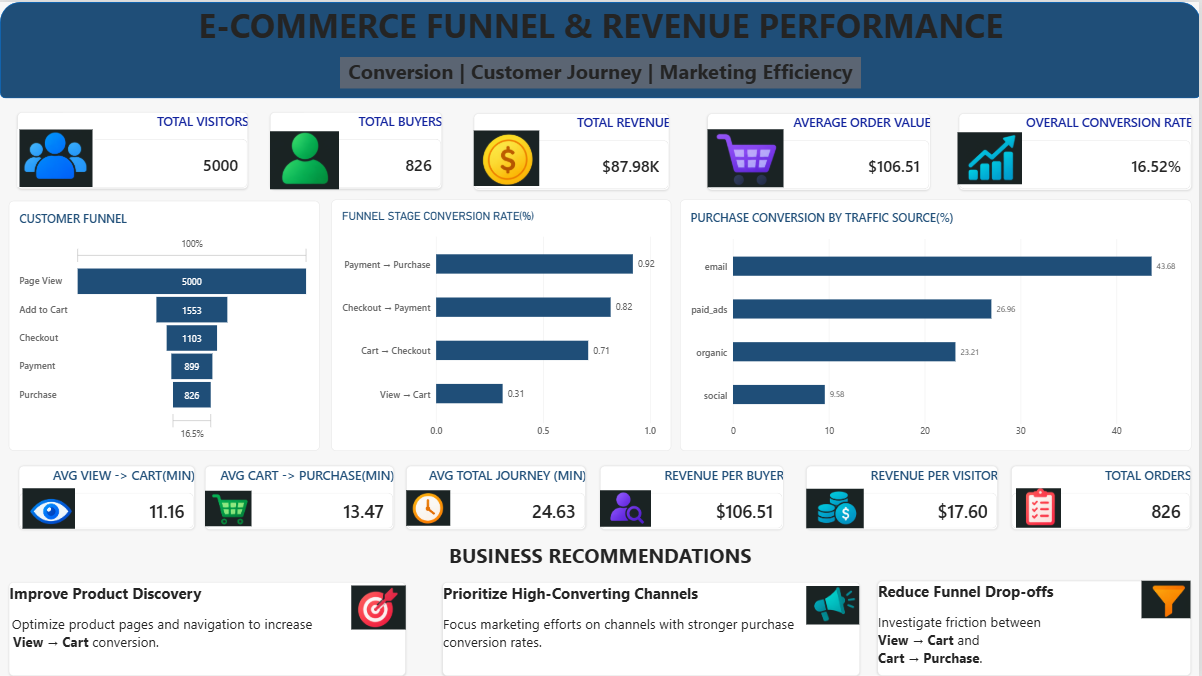

The dashboard page shown, as its layout file describes it:
{"tool":"powerbi","page":{"name":"ecommerce_funnel_dashboard","canvas":[1920,1080],"ordinal":0},"visuals":[{"type":"cardVisual","title":"TOTAL VISITORS","fields":{"Data":["Sum(revenue_funnel_analysis.total_visitors)"]},"box":[29,175.5,369.2,123.1],"z":0},{"type":"cardVisual","title":"TOTAL BUYERS","fields":{"Data":["Sum(revenue_funnel_analysis.total_buyers)"]},"box":[432.5,175.5,275.1,123.1],"z":1000},{"type":"cardVisual","title":"TOTAL REVENUE","fields":{"Data":["Sum(revenue_funnel_analysis.total_revenue)"]},"box":[758.2,177.3,313.1,123.1],"z":2000},{"type":"cardVisual","title":"AVERAGE ORDER VALUE","fields":{"Data":["Sum(revenue_funnel_analysis.average_order_value)"]},"box":[1132.8,177.3,356.5,123.1],"z":3000},{"type":"cardVisual","title":"OVERALL CONVERSION RATE","fields":{"Data":["Sum(conversion_rate_to_funnel.overall_conversion_rate)"]},"box":[1533.3,177.1,372.9,122.9],"z":4000},{"type":"shape","box":[0,0,1920.8,154.2],"z":5000},{"type":"textbox","box":[29.2,0,1862.5,87.5],"z":6000},{"type":"textbox","box":[543.8,87.5,833.3,50],"z":7000},{"type":"funnel","title":"CUSTOMER FUNNEL","fields":{"Category":["Funnel_Chart.Stage"],"Y":["Sum(Funnel_Chart.Users)"]},"box":[14.6,318.8,497.9,400],"z":8000},{"type":"clusteredBarChart","title":"PURCHASE CONVERSION BY TRAFFIC SOURCE(%)","fields":{"Category":["funnel_by_source.traffic_source"],"Y":["Sum(funnel_by_source.purchase_conversion_rate)"]},"box":[1087.5,316.7,818.8,402.1],"z":9000},{"type":"cardVisual","title":"AVG VIEW -> CART(MIN)","fields":{"Data":["Sum(time_to_conversion_analysis.avg_view_to_cart_minutes)"]},"box":[29.2,741.7,281.2,102.1],"z":10000},{"type":"cardVisual","title":"AVG CART -> PURCHASE(MIN)","fields":{"Data":["Sum(time_to_conversion_analysis.avg_cart_to_purchase_minutes)"]},"box":[327.1,741.7,302.1,102.1],"z":11000},{"type":"cardVisual","title":"AVG TOTAL JOURNEY (MIN)","fields":{"Data":["Sum(time_to_conversion_analysis.avg_total_jouney_minutes)"]},"box":[650,741.7,287.5,102.1],"z":12000},{"type":"cardVisual","title":"REVENUE PER BUYER","fields":{"Data":["Sum(revenue_funnel_analysis.revenue_per_buyer)"]},"box":[960.4,741.7,293.8,102.1],"z":13000},{"type":"cardVisual","title":"REVENUE PER VISITOR","fields":{"Data":["Sum(revenue_funnel_analysis.revenue_per_visitor)"]},"box":[1289.6,741.7,306.2,102.1],"z":14000},{"type":"cardVisual","title":"TOTAL ORDERS","fields":{"Data":["Sum(revenue_funnel_analysis.total_orders)"]},"box":[1618.8,741.7,287.5,102.1],"z":15000},{"type":"clusteredBarChart","title":"FUNNEL STAGE CONVERSION RATE(%)","fields":{"Category":["Funnel_Conversion_Rate.Stage"],"Y":["Sum(Funnel_Conversion_Rate.Conversion Rate)"]},"box":[529.2,316.7,543.8,402.1],"z":16000},{"type":"textbox","box":[0,843.8,1920.8,60.4],"z":17000},{"type":"textbox","box":[14.5,928.4,635.2,150.2],"z":18000},{"type":"textbox","box":[707.6,928.4,667.8,150.2],"z":19000},{"type":"textbox","box":[1404.3,926.5,501.3,152],"z":20000},{"type":"image","box":[29,204.5,123.1,92.3],"z":21000},{"type":"image","box":[432.5,206.3,110.4,94.1],"z":22000},{"type":"image","box":[758.2,204.5,105,92.3],"z":23000},{"type":"image","box":[1132.8,202.7,121.2,95.9],"z":24000},{"type":"image","box":[1532.8,202.7,103.2,95.9],"z":25000},{"type":"image","box":[29,778.2,99.5,65.1],"z":26000},{"type":"image","box":[327.5,778.2,74.2,65.1],"z":27000},{"type":"image","box":[649.7,778.2,70.6,63.3],"z":28000},{"type":"image","box":[960.9,778.2,81.4,65.1],"z":29000},{"type":"image","box":[1290.3,778.2,92.3,65.1],"z":30000},{"type":"image","box":[1619.6,778.2,83.2,63.3],"z":31000},{"type":"image","box":[1824.1,926.5,83.2,59.7],"z":32000},{"type":"image","box":[562.8,928.4,86.9,81.4],"z":33000},{"type":"image","box":[1290.3,928.4,85.1,74.2],"z":34000}]}

Visuals, with their boxes in screenshot pixels (x1, y1, x2, y2), scaled from the page's 1920x1080 canvas onto the 1202x676 screenshot:
"TOTAL VISITORS" cardVisual: [18,110,249,187]
"TOTAL BUYERS" cardVisual: [271,110,443,187]
"TOTAL REVENUE" cardVisual: [475,111,671,188]
"AVERAGE ORDER VALUE" cardVisual: [709,111,932,188]
"OVERALL CONVERSION RATE" cardVisual: [960,111,1193,188]
shape: [0,0,1201,97]
textbox: [18,0,1184,55]
textbox: [340,55,862,86]
"CUSTOMER FUNNEL" funnel: [9,200,321,450]
"PURCHASE CONVERSION BY TRAFFIC SOURCE(%)" clusteredBarChart: [681,198,1193,450]
"AVG VIEW -> CART(MIN)" cardVisual: [18,464,194,528]
"AVG CART -> PURCHASE(MIN)" cardVisual: [205,464,394,528]
"AVG TOTAL JOURNEY (MIN)" cardVisual: [407,464,587,528]
"REVENUE PER BUYER" cardVisual: [601,464,785,528]
"REVENUE PER VISITOR" cardVisual: [807,464,999,528]
"TOTAL ORDERS" cardVisual: [1013,464,1193,528]
"FUNNEL STAGE CONVERSION RATE(%)" clusteredBarChart: [331,198,672,450]
textbox: [0,528,1201,566]
textbox: [9,581,407,675]
textbox: [443,581,861,675]
textbox: [879,580,1193,675]
image: [18,128,95,186]
image: [271,129,340,188]
image: [475,128,540,186]
image: [709,127,785,187]
image: [960,127,1024,187]
image: [18,487,80,528]
image: [205,487,251,528]
image: [407,487,451,527]
image: [602,487,653,528]
image: [808,487,866,528]
image: [1014,487,1066,527]
image: [1142,580,1194,617]
image: [352,581,407,632]
image: [808,581,861,628]
